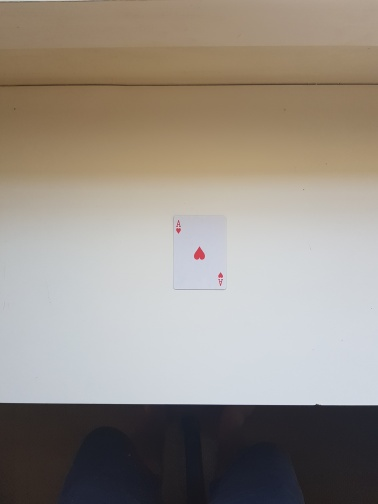ace: (170, 212, 229, 292)
